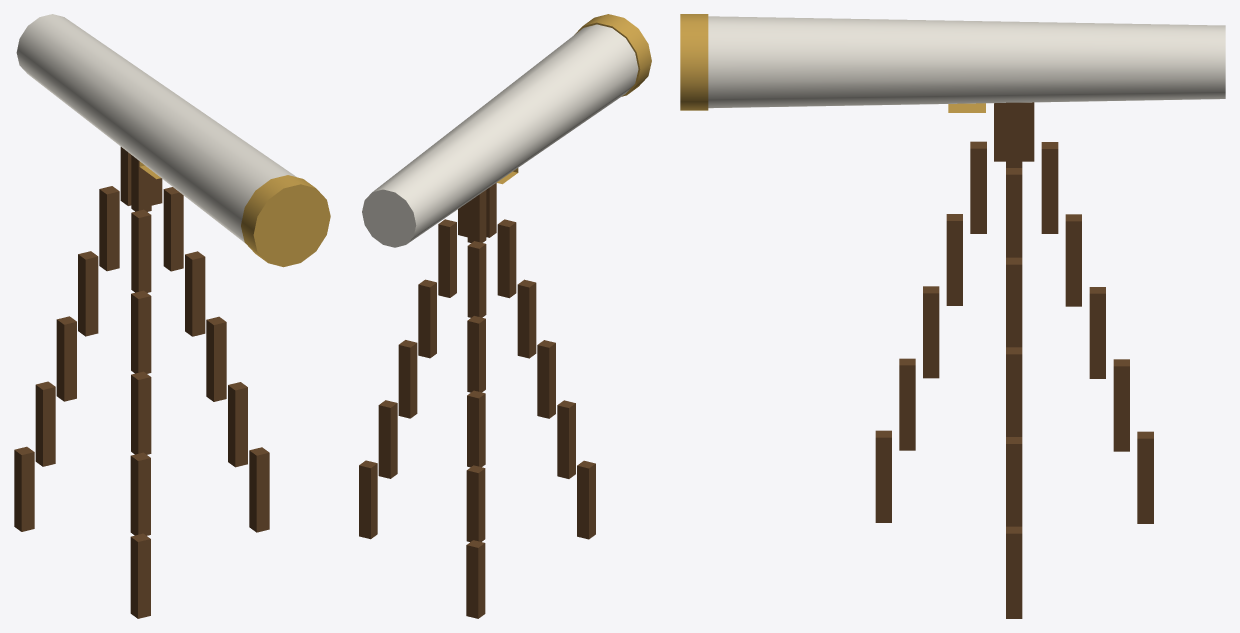
The model's file is telescope.glb.
3 views of the same model, side by side, from view 1: azimuth 30°, elevation 25°; view 2: azimuth 150°, elevation 25°; view 3: azimuth 270°, elevation 25° (orthographic). The views are drawn at different scales.
Parts seen in each view (by area): view 1: telescope; view 2: telescope; view 3: telescope.
Boxes of the visible parts, x1,y1,x2,y2 form: telescope: (14, 14, 330, 618); telescope: (359, 14, 651, 618); telescope: (680, 14, 1225, 618).
Bounding box in the file's own units: 0.5178 × 1.25 × 1.16.
